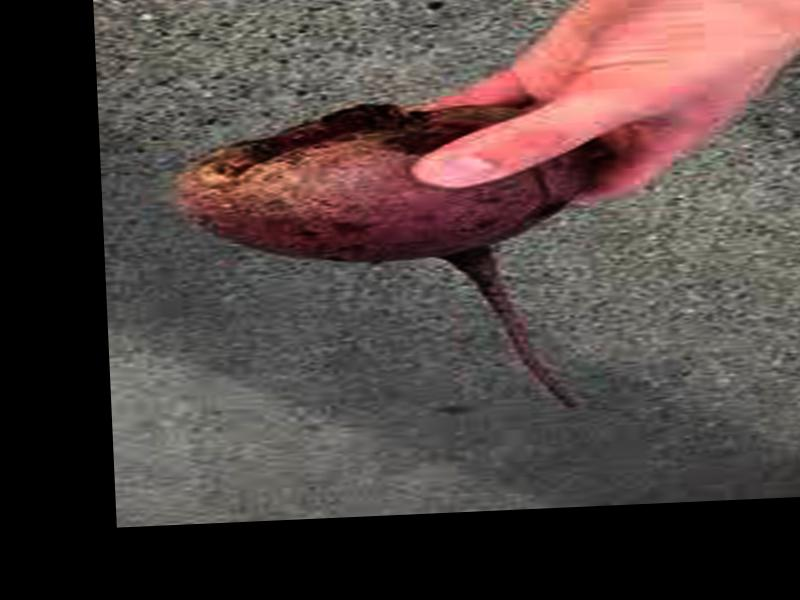Beet: (174, 96, 592, 423)
